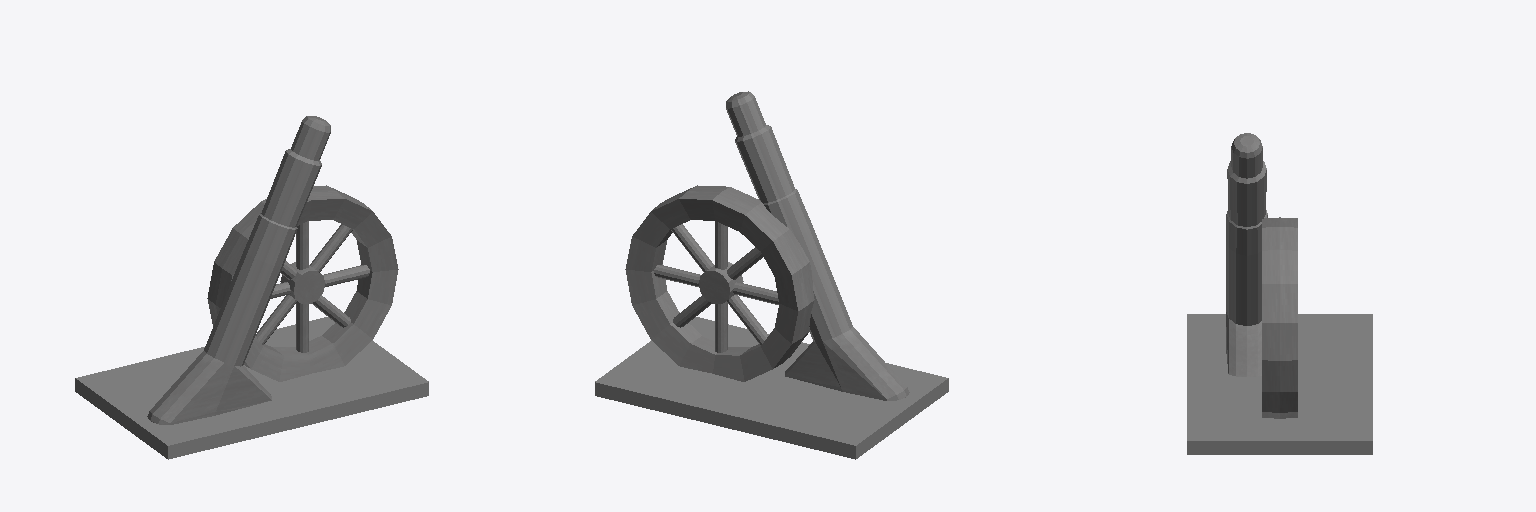
The picture shows the model from 3 angles: view 1: azimuth 30°, elevation 25°; view 2: azimuth 150°, elevation 25°; view 3: azimuth 270°, elevation 25°; orthographic projection.
Parts seen in each view (by area): view 1: Cylinder.009; view 2: Cylinder.009; view 3: Cylinder.009.
Part boxes in pixels (left/top/right/bottom): Cylinder.009: left=75, top=116, right=428, bottom=459; Cylinder.009: left=595, top=91, right=948, bottom=459; Cylinder.009: left=1187, top=133, right=1372, bottom=454.
Size of the model in its own units: 3.35 by 3.35 by 2.
Materials: 1 (1 with a texture image).